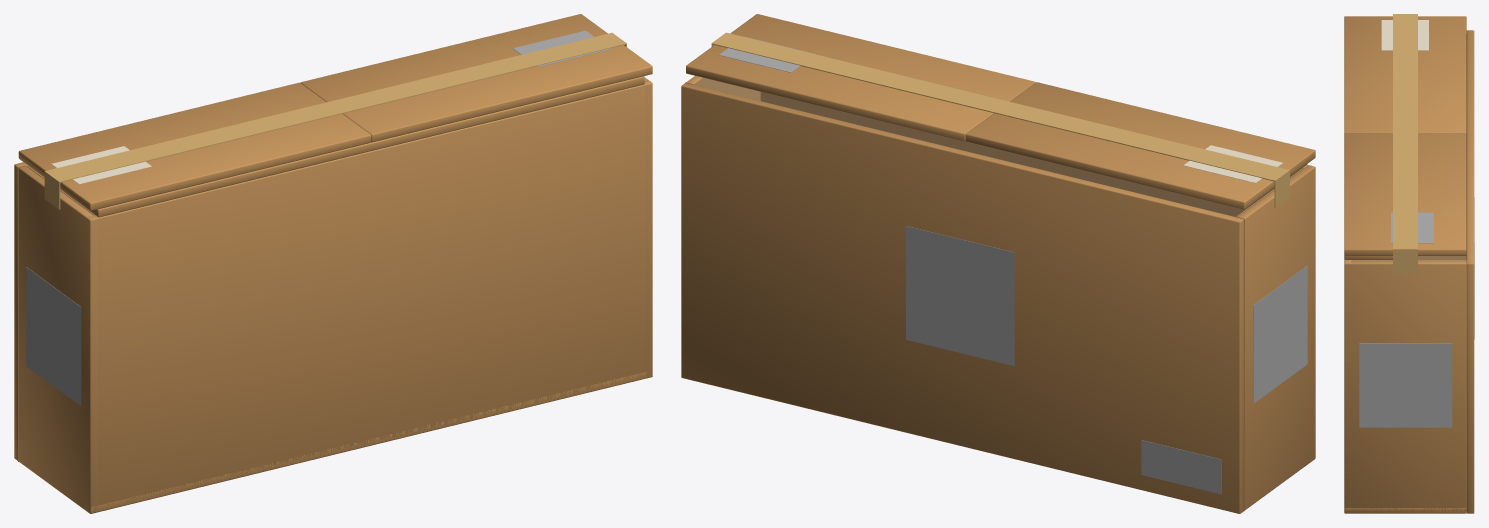
3 renders of one model, left to right at view 1: azimuth 30°, elevation 25°; view 2: azimuth 150°, elevation 25°; view 3: azimuth 270°, elevation 25°, orthographic. The views are drawn at different scales.
Visible parts, largest first — view 1: box_6x3, FlapR, FlapL, Tape, FlapB, Front; view 2: Front, box_6x3, FlapR, FlapL, Tape; view 3: box_6x3, FlapL, FlapR, Tape, Front, FlapB.
Part boxes in pixels (x1,y1,x2,y2): box_6x3: [18, 77, 652, 513]; FlapR: [18, 82, 371, 210]; FlapL: [300, 14, 652, 142]; Tape: [44, 32, 626, 209]; FlapB: [64, 76, 644, 217]; Front: [14, 162, 91, 460]; Front: [681, 83, 1243, 513]; box_6x3: [685, 76, 1315, 511]; FlapR: [965, 82, 1315, 209]; FlapL: [686, 14, 1035, 141]; Tape: [711, 32, 1289, 208]; box_6x3: [1344, 30, 1466, 513]; FlapL: [1344, 133, 1466, 255]; FlapR: [1344, 16, 1466, 133]; Tape: [1393, 14, 1417, 272]; Front: [1466, 30, 1474, 513]; FlapB: [1344, 256, 1392, 259].
Size of the model in its own units: 1.56 by 0.8185 by 0.3649.
